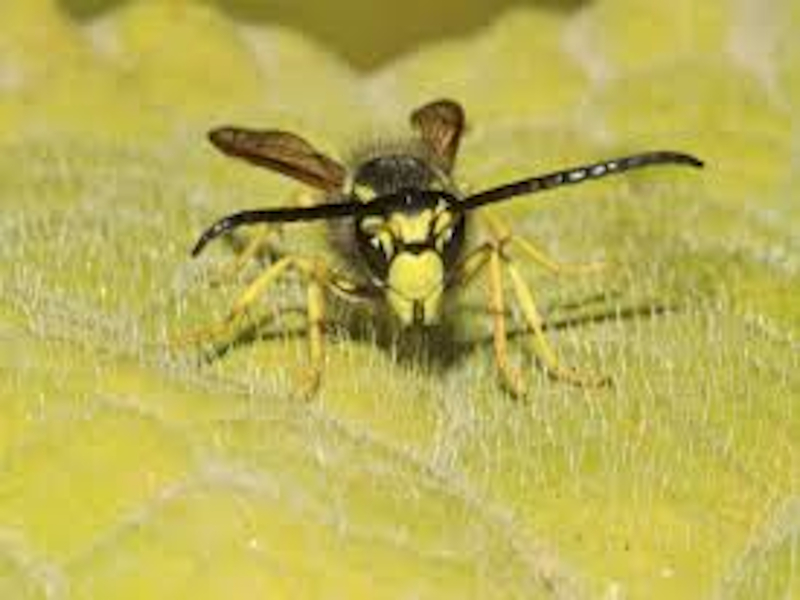chax: (140, 77, 730, 425)
